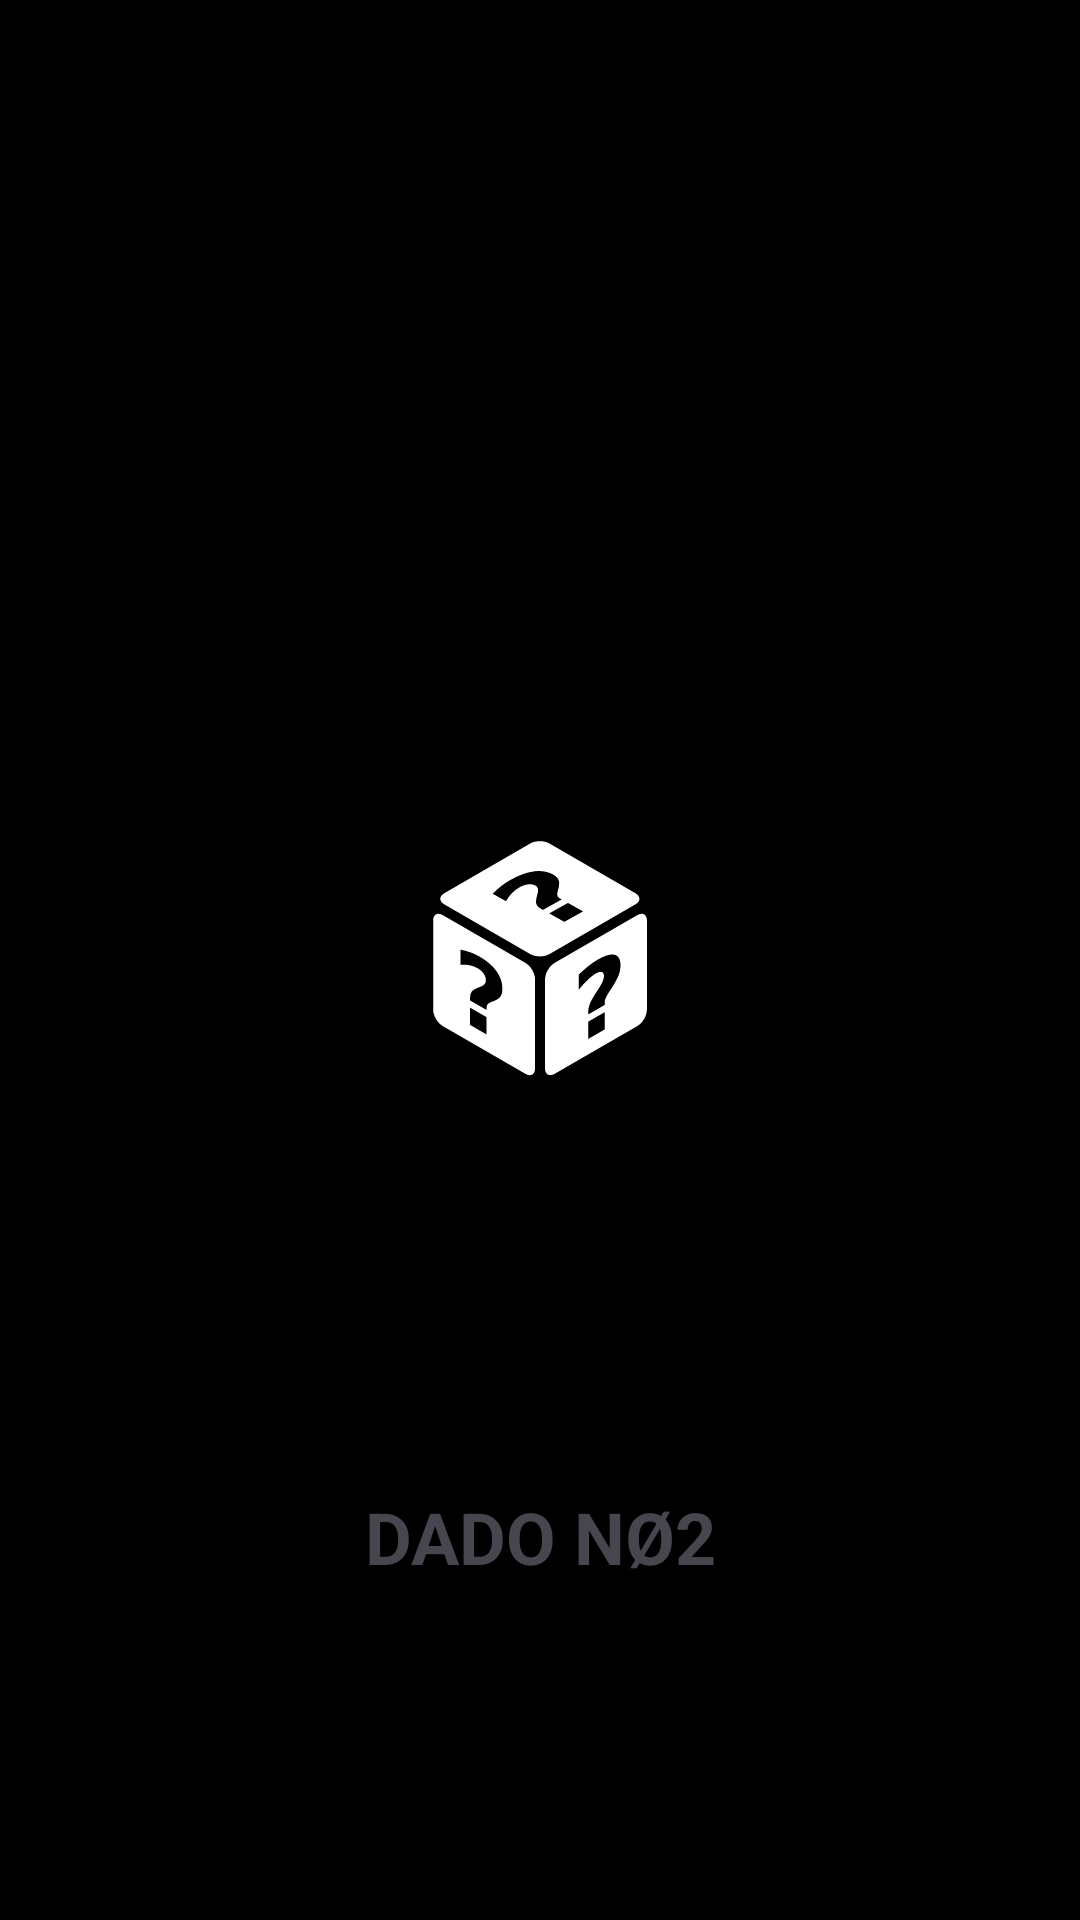

Icons on this 1080 × 1920 Android screen, each with the point to tap as [x,y]:
Ícone de um dado: [540,958]
